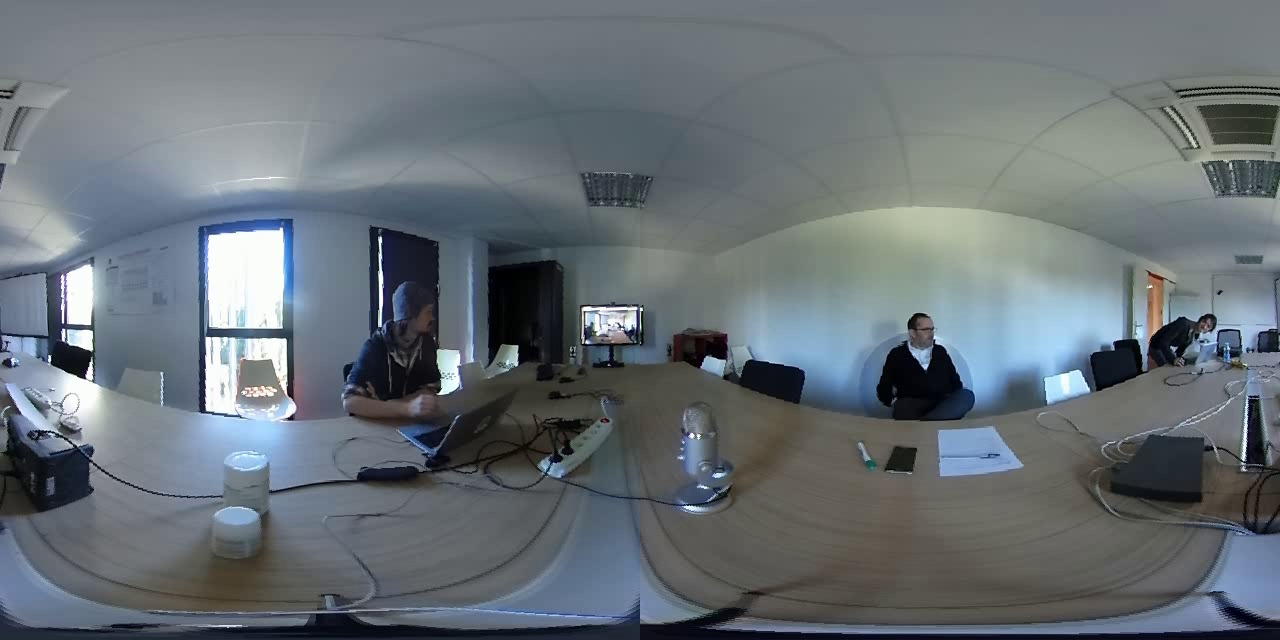person: (344, 276, 456, 415), (876, 304, 974, 418), (1143, 297, 1226, 374)
